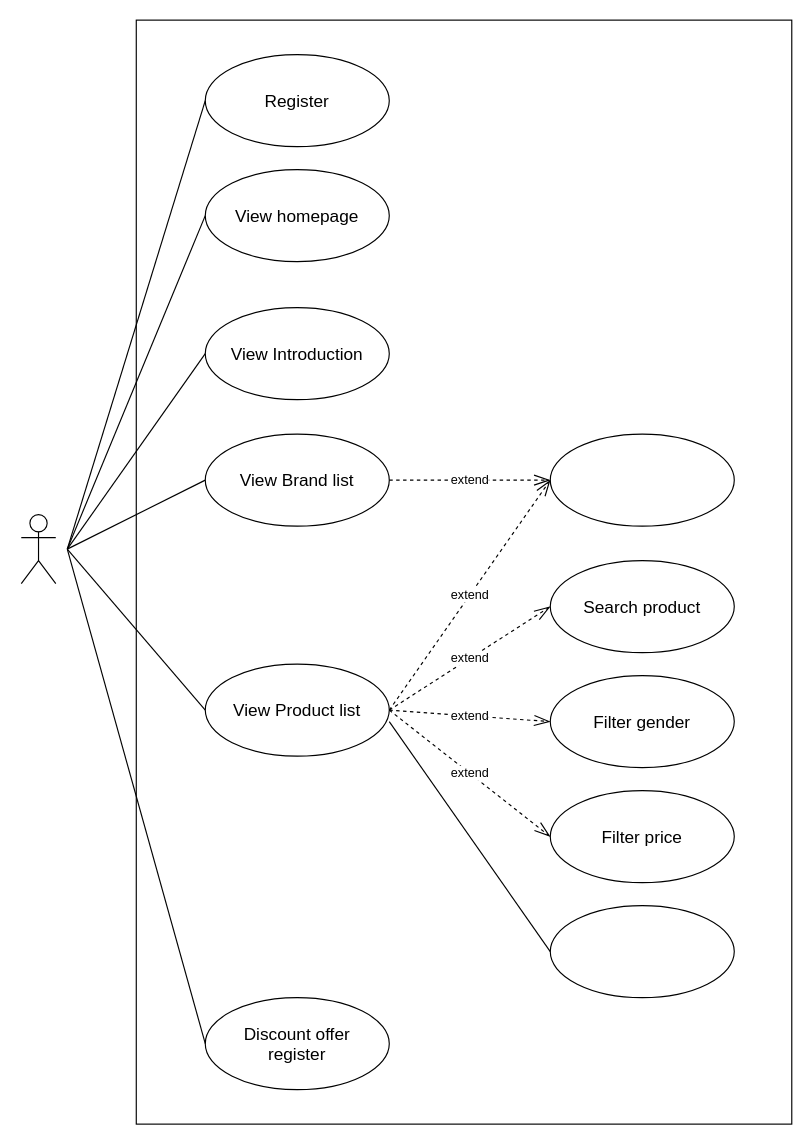
Some shapes in this 812 by 1144 pixel diagram are drawn without their labels. The centre of each missing label's shape, as x and y in pixels:
"Filter brand" belongs at point (641, 479).
"Guest" belongs at point (38, 548).
"Product Detail" belongs at point (641, 951).
